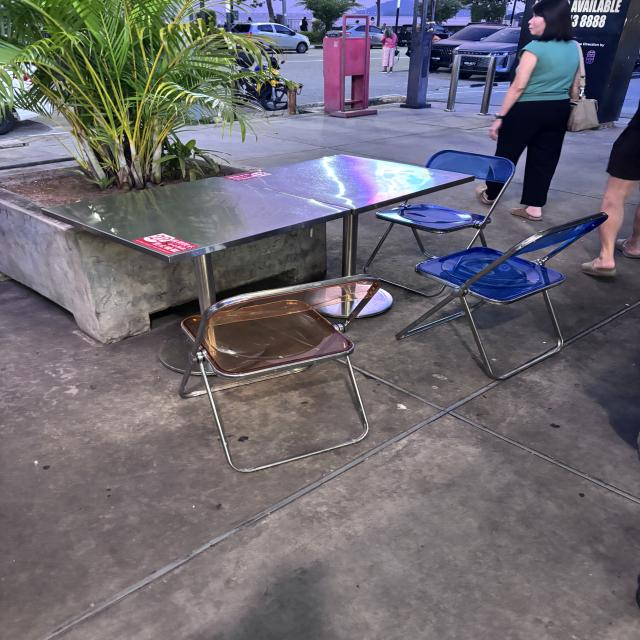Chair: (170, 264, 393, 482), (392, 207, 612, 390), (369, 144, 519, 266)
